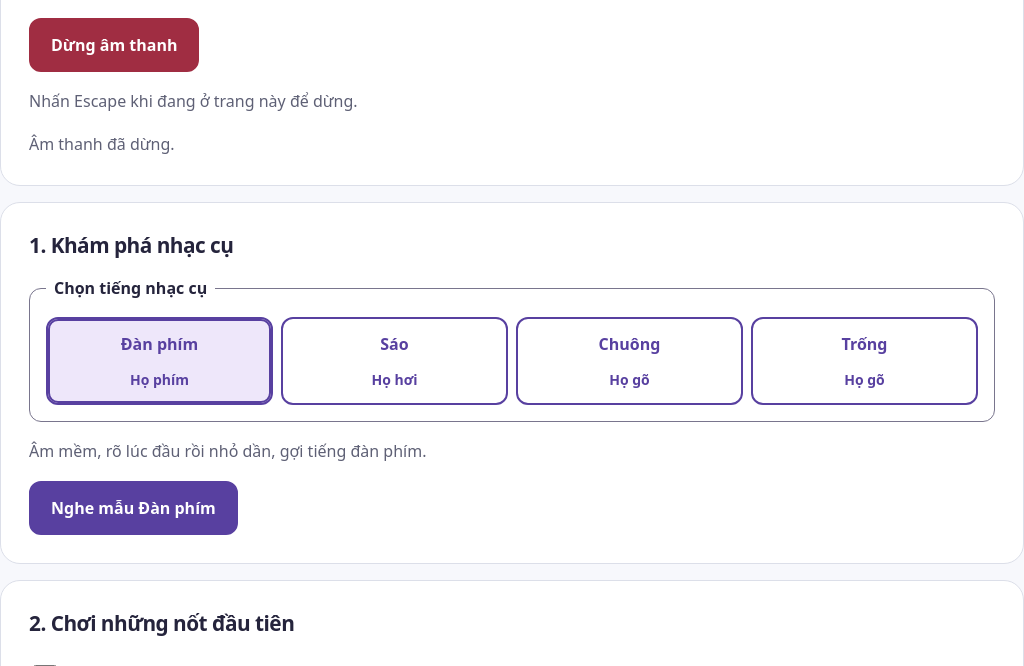
Test: Music Playground › explores instruments and plays samples without adding them to the composition
(page scrolled)
Click the button "Sáo Họ hơi" at (394, 361), box left=281, top=317, right=508, bottom=405
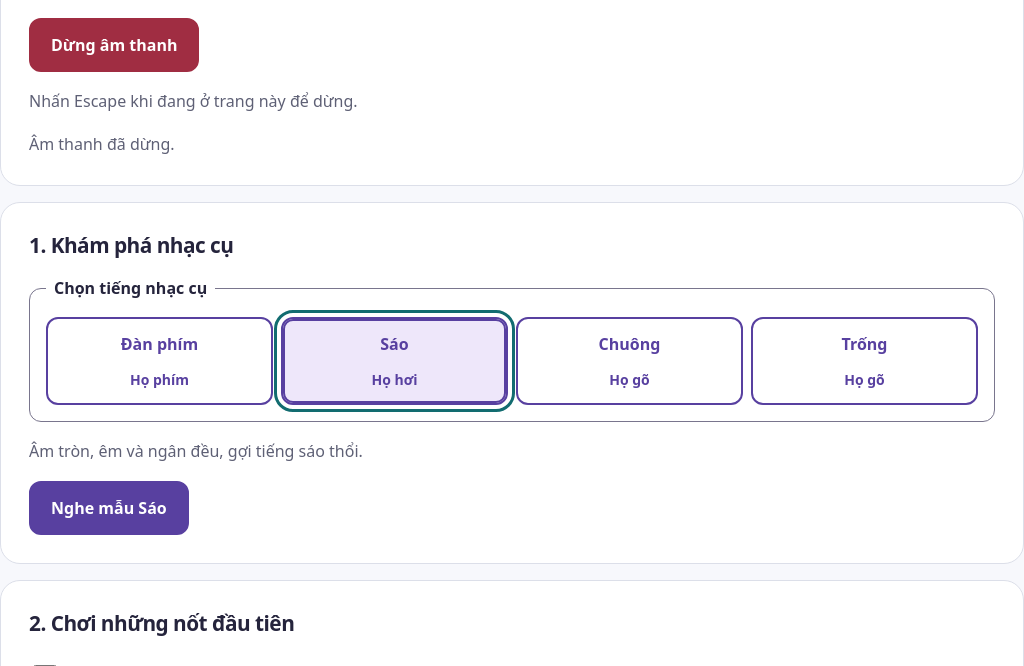
Result: the button "Sáo Họ hơi" is pressed at left=281, top=317, right=508, bottom=405
Click the button "Nghe mẫu Sáo" at (109, 508), box left=29, top=481, right=189, bottom=535
(page scrolled)
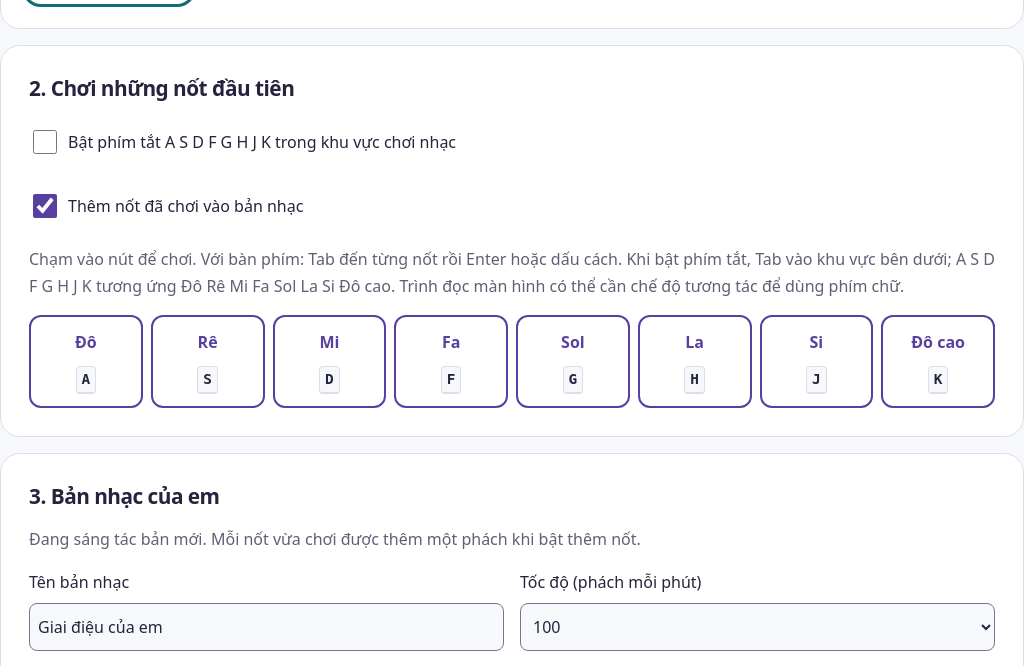
Click the button "Đô A" at (86, 361), box left=29, top=315, right=143, bottom=408
(page scrolled)
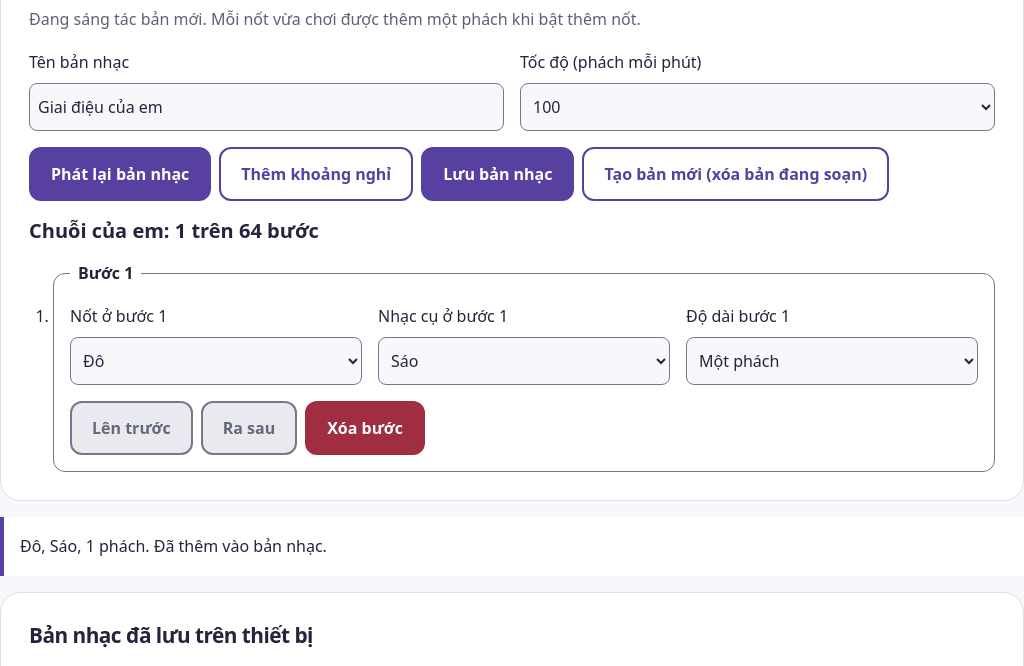
Result: the dropdown labelled "Nhạc cụ ở bước 1" shows "Sáo" at left=378, top=337, right=670, bottom=385
